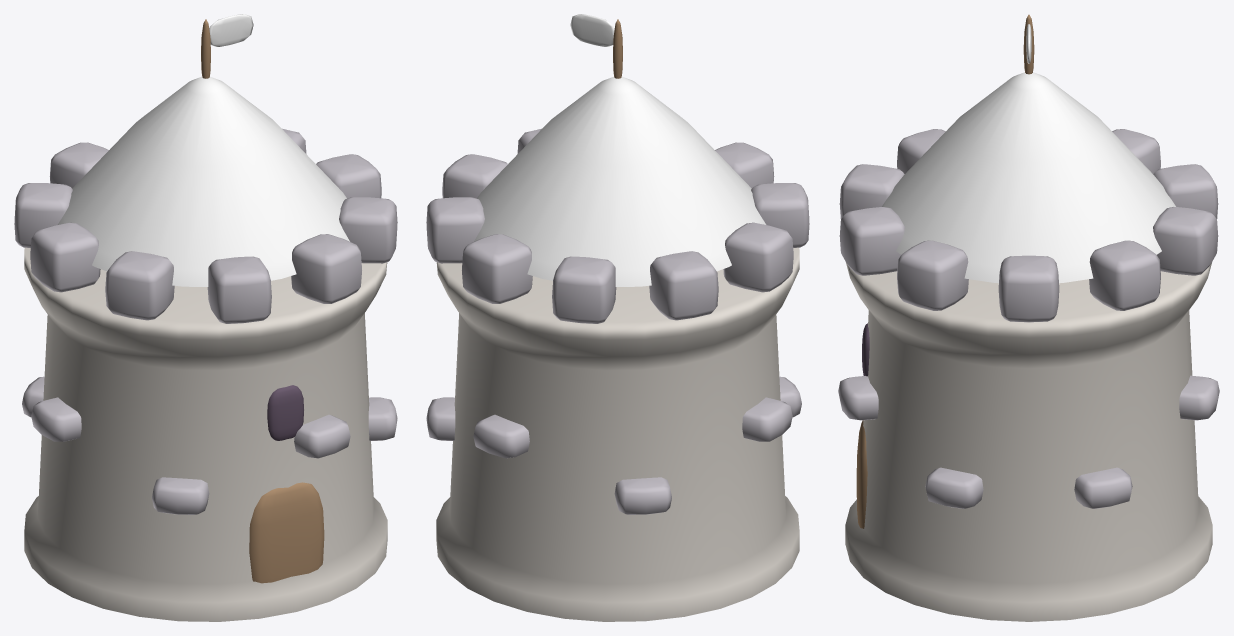
File: tower.glb
3 renders of one model, left to right at view 1: azimuth 30°, elevation 25°; view 2: azimuth 150°, elevation 25°; view 3: azimuth 270°, elevation 25°, orthographic.
Visible parts, largest first — view 1: Base, Roof; view 2: Base, Roof; view 3: Base, Roof.
Boxes of the visible parts, x1,y1,x2,y2 form: Base: [14, 19, 397, 621]; Roof: [57, 14, 349, 286]; Base: [426, 19, 809, 621]; Roof: [474, 14, 766, 286]; Base: [838, 14, 1219, 621]; Roof: [882, 24, 1175, 283].
Bounding box in the file's own units: 2.16 × 3.27 × 2.13.
